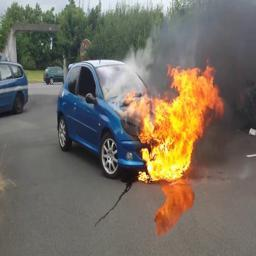fire: (128, 63, 226, 182)
